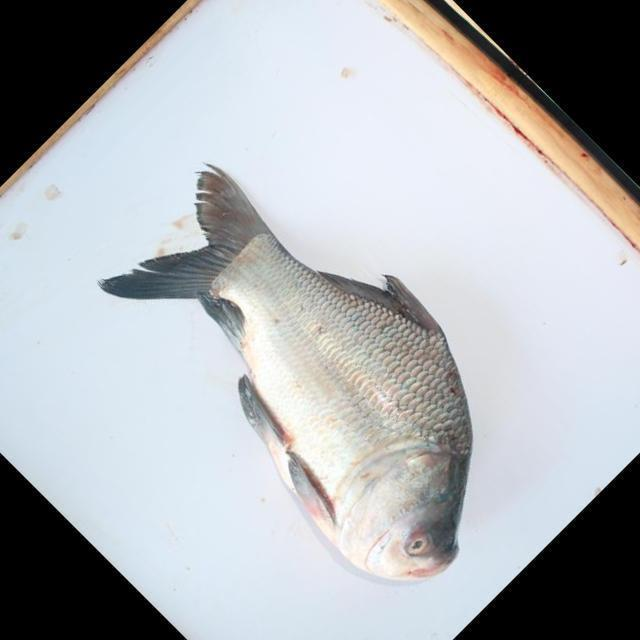Indian Carp: (102, 144, 497, 599)
